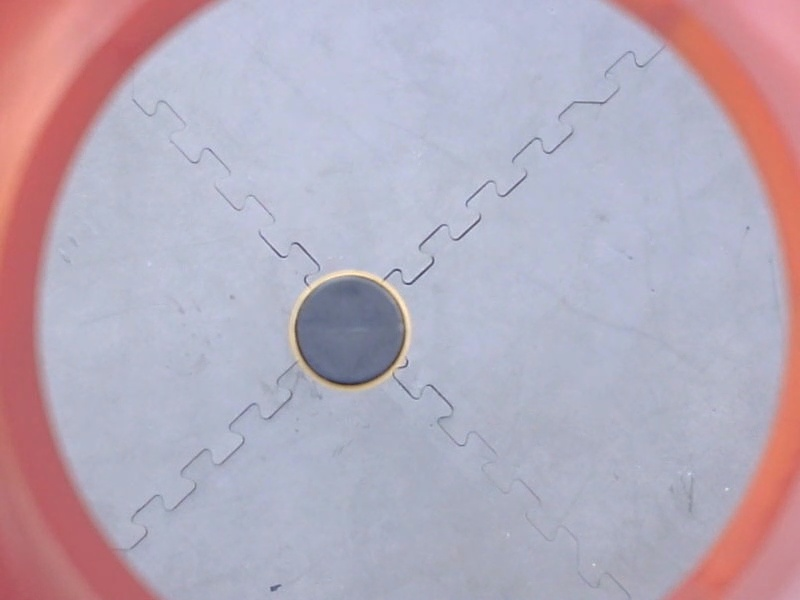tip: (283, 263, 420, 397)
